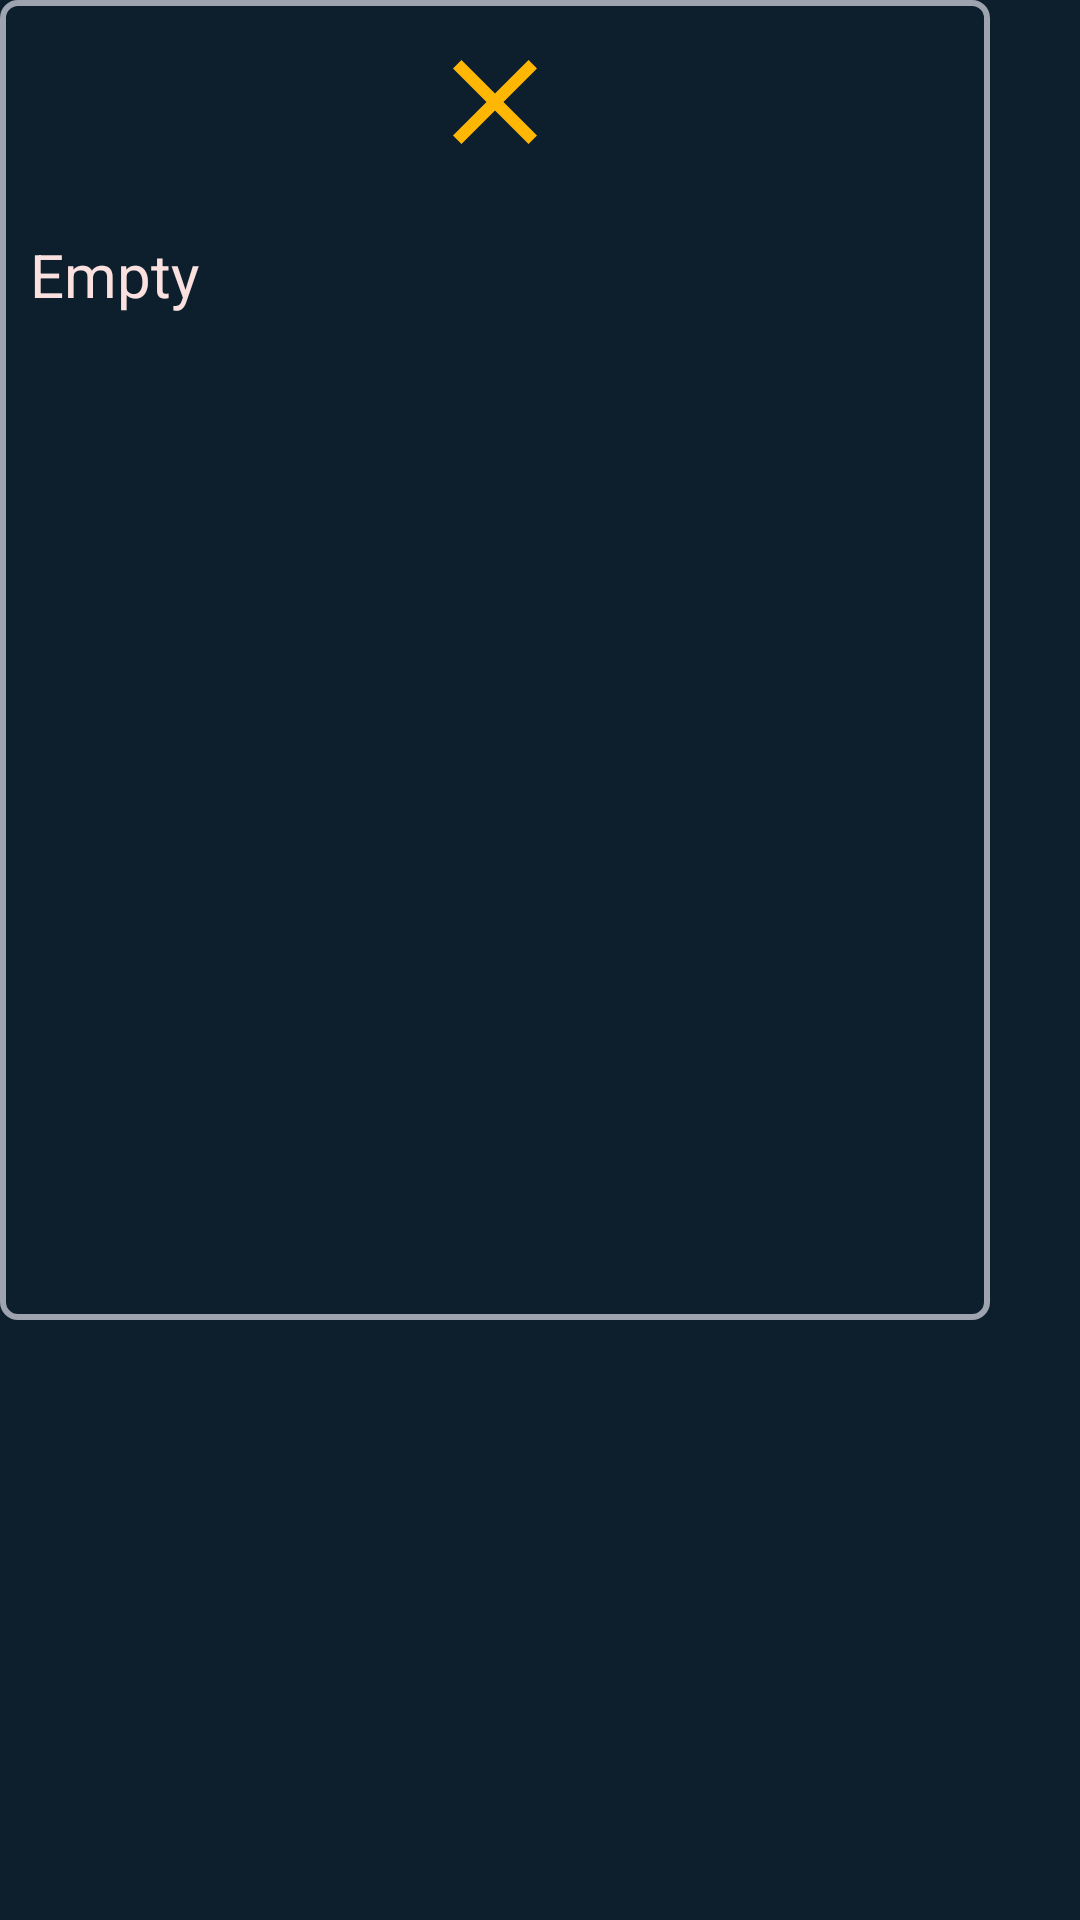

Locate icon controls on the screen. Image size 1080px x 1920px, boxes as (x1, y1, x2, y2).
close golden: (453, 60, 537, 144)
